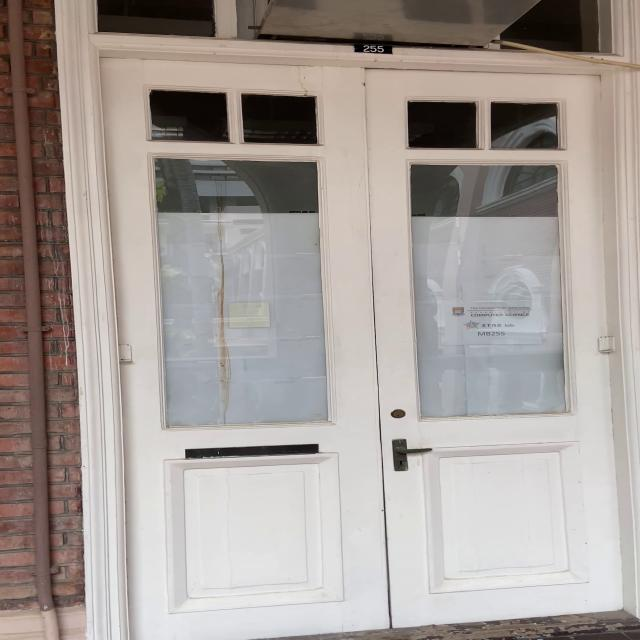room255: (353, 38, 393, 58)
